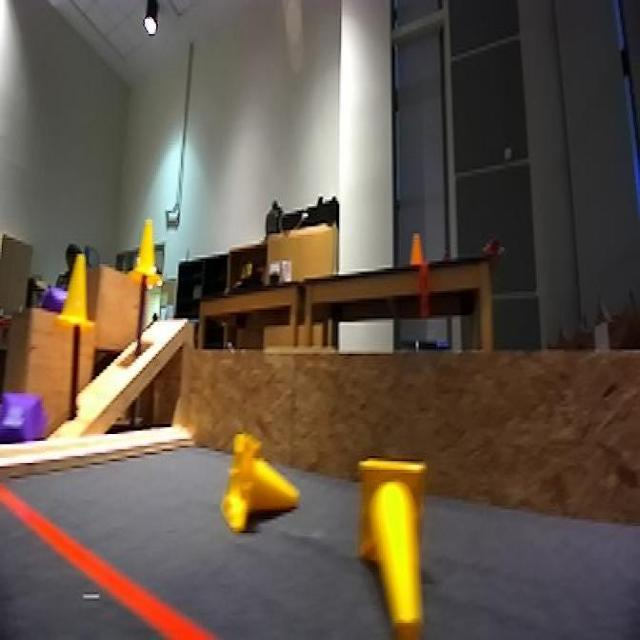frc_cone: (354, 456, 430, 640), (220, 432, 290, 538), (61, 250, 94, 337), (133, 221, 166, 300)
frc_cube: (0, 393, 41, 451), (31, 283, 72, 313)
